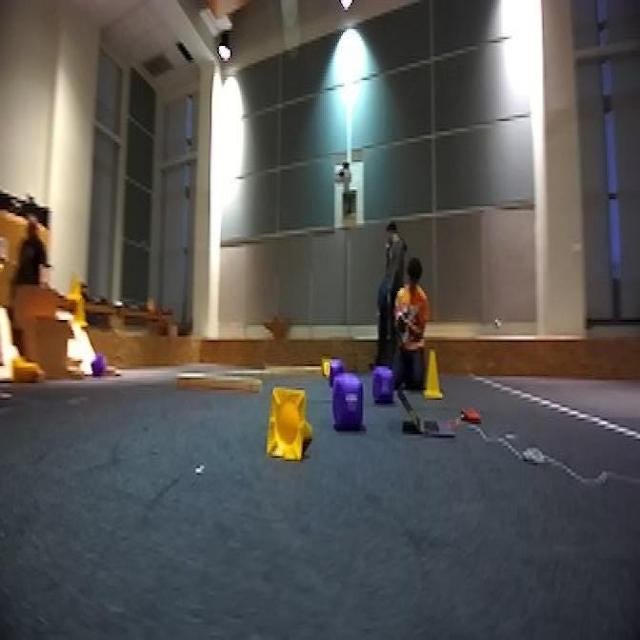frc_cone: (267, 386, 317, 470), (421, 349, 446, 398), (10, 352, 39, 385), (73, 294, 88, 332), (66, 271, 82, 303), (318, 354, 329, 376)
frc_cube: (333, 373, 366, 429), (371, 364, 396, 402), (90, 352, 104, 382), (328, 358, 344, 376)
